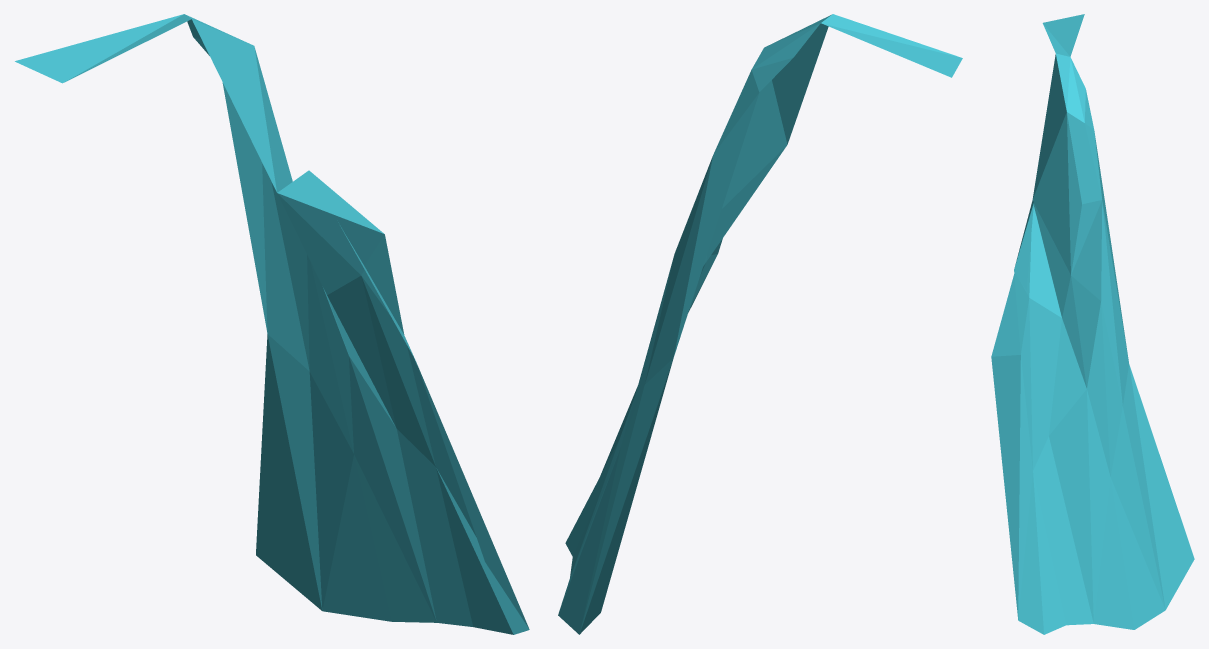
File: ground.083.fbx
3 views of the same model, side by side, from view 1: azimuth 30°, elevation 25°; view 2: azimuth 150°, elevation 25°; view 3: azimuth 270°, elevation 25° (orthographic). The views are drawn at different scales.
Parts seen in each view (by area): view 1: ground_083; view 2: ground_083; view 3: ground_083.
Boxes of the visible parts, <box> form: ground_083: <box>15,14,529,634</box>; ground_083: <box>558,14,962,634</box>; ground_083: <box>991,14,1194,634</box>.
Bounding box in the file's own units: 12573 × 18064 × 6798.
